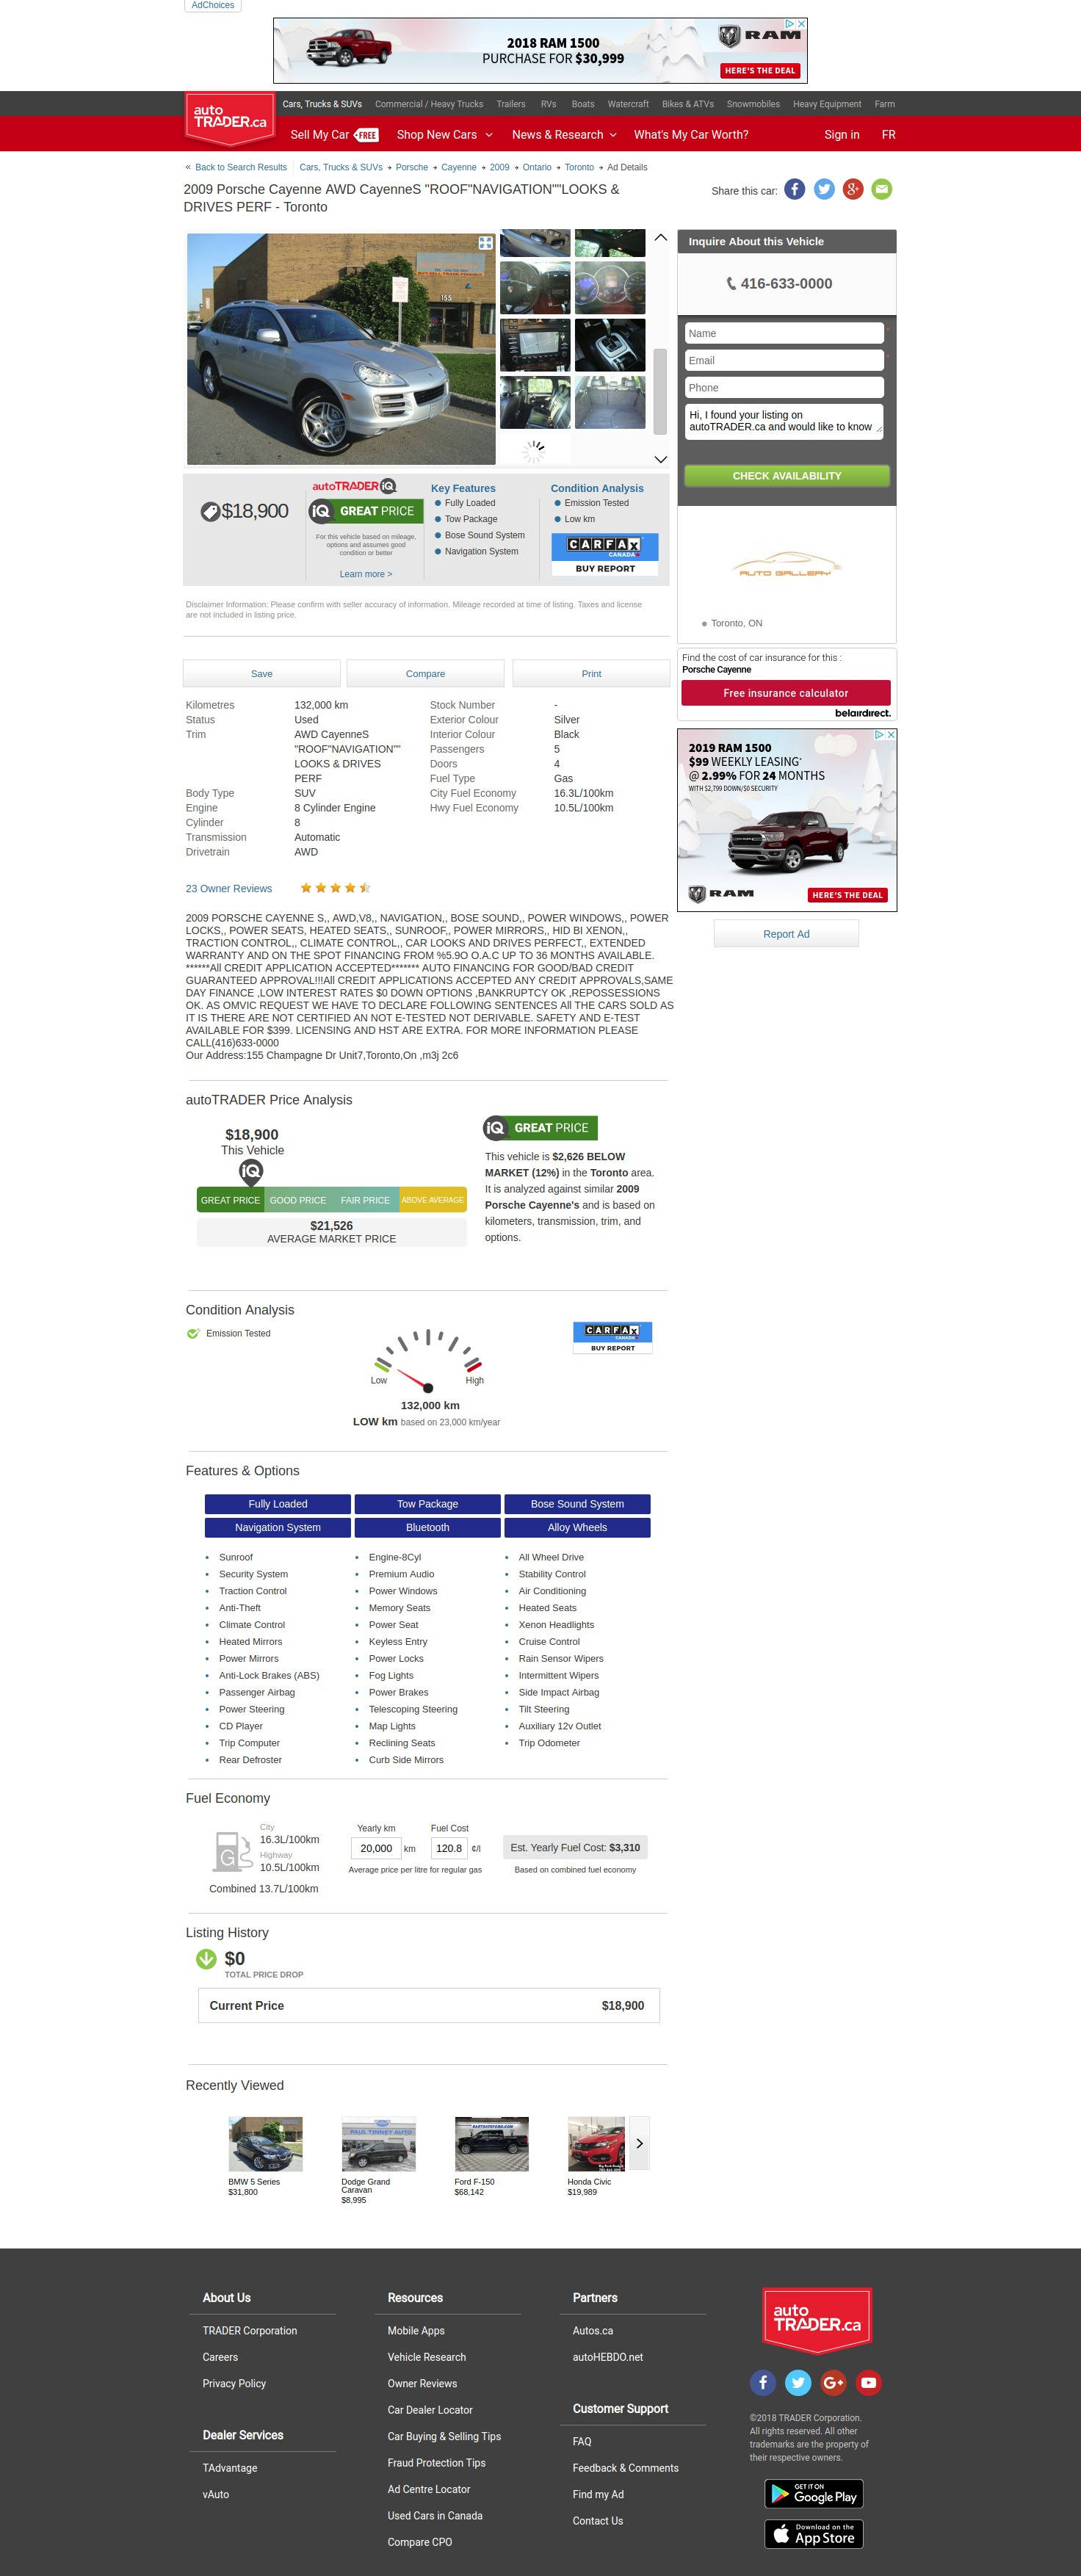car: (654, 455, 669, 465)
